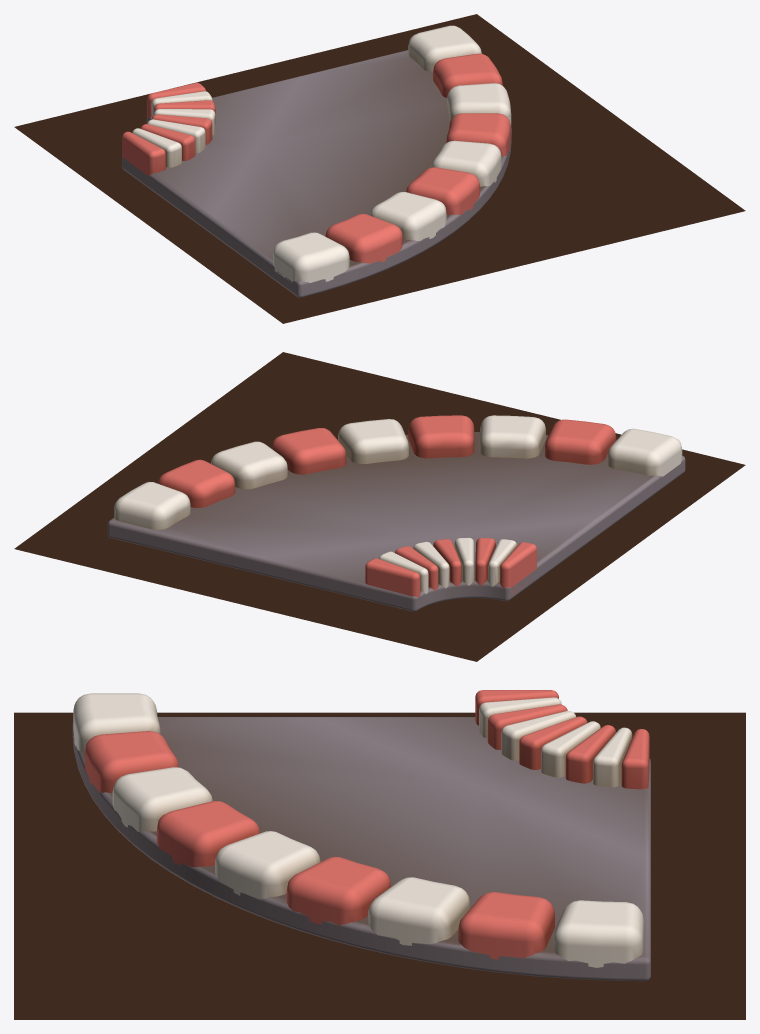
Rendered from track_corner.glb.
3 views of the same model, one above another, from view 1: azimuth 30°, elevation 25°; view 2: azimuth 150°, elevation 25°; view 3: azimuth 270°, elevation 25° (orthographic). The views are drawn at different scales.
Visible parts, largest first — view 1: baked_shadow, asphalt, curb_out0, curb_out1, curb_out2, curb_out3, curb_out4, curb_out8, curb_out7, curb_out5, curb_out6, curb_in0 (+7 smaller); view 2: baked_shadow, asphalt, curb_out0, curb_out8, curb_out3, curb_out2, curb_out1, curb_out4, curb_out5, curb_out6, curb_out7, curb_in8 (+8 smaller); view 3: baked_shadow, asphalt, curb_out6, curb_out7, curb_out8, curb_out5, curb_out4, curb_out3, curb_out2, curb_out1, curb_out0, curb_in6 (+8 smaller).
Part boxes in pixels (x1,y1,x2,y2): baked_shadow: (14,14,745,323); asphalt: (122,50,511,297); curb_out0: (273,232,349,282); curb_out1: (325,213,402,263); curb_out2: (370,192,446,240); curb_out3: (406,167,479,215); curb_out4: (432,140,501,186); curb_out8: (408,25,481,72); curb_out7: (433,53,502,97); curb_out5: (446,113,510,156); curb_out6: (447,83,511,124); curb_in0: (122,131,165,175); baked_shadow: (14,352,745,661); asphalt: (107,432,685,611); curb_out0: (607,428,682,476); curb_out8: (114,482,190,529); curb_out3: (408,415,474,458); curb_out2: (479,415,545,458); curb_out1: (545,419,616,464); curb_out4: (338,419,408,464); curb_out5: (271,428,346,474); curb_out6: (211,441,287,489); curb_out7: (158,459,235,507); curb_in8: (365,558,420,597); baked_shadow: (14,712,745,1019); asphalt: (72,717,650,981); curb_out6: (368,877,470,945); curb_out7: (458,892,554,959); curb_out8: (553,900,643,967); curb_out5: (286,856,390,925); curb_out4: (215,831,320,899); curb_out3: (157,801,259,867); curb_out2: (112,767,212,831); curb_out1: (85,731,179,792); curb_out0: (73,693,160,751); curb_in6: (565,725,615,783).
Bounding box in the file's own units: 4.33 × 0.34 × 4.37.
Materials: 4 (1 with a texture image).
